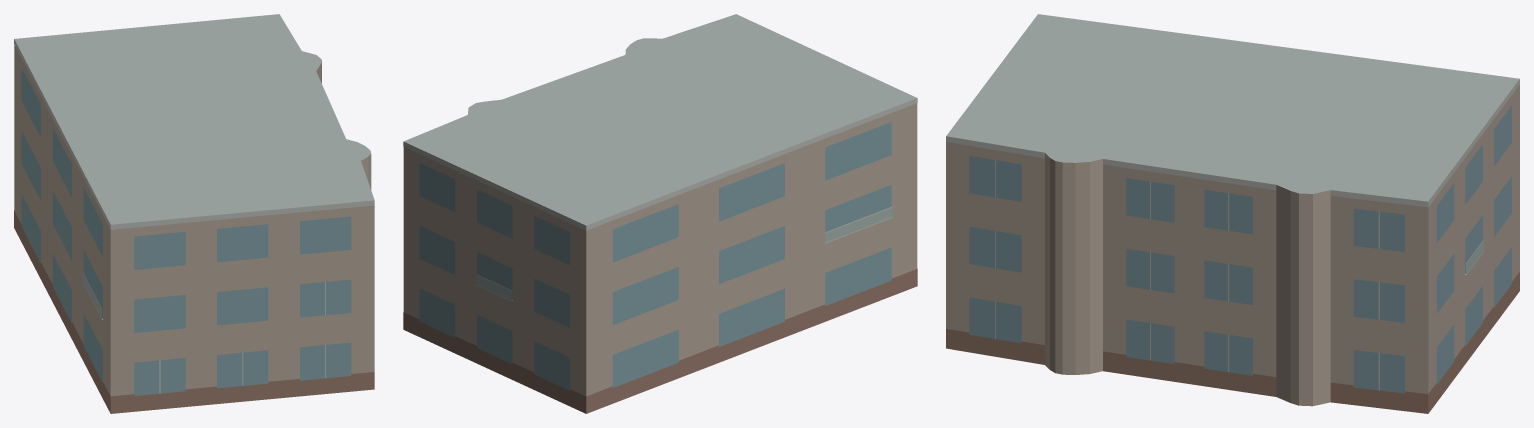
The model's file is survey-upis-32582106.glb.
3 renders of one model, left to right at view 1: azimuth 30°, elevation 25°; view 2: azimuth 150°, elevation 25°; view 3: azimuth 270°, elevation 25°, orthographic. The views are drawn at different scales.
Visible parts, largest first — view 1: survey-upis-32582106.tmp; view 2: survey-upis-32582106.tmp; view 3: survey-upis-32582106.tmp.
Boxes of the visible parts, x1,y1,x2,y2 form: survey-upis-32582106.tmp: (14,14,374,413); survey-upis-32582106.tmp: (403,14,917,413); survey-upis-32582106.tmp: (946,14,1519,413).
Size of the model in its own units: 17.36 by 9.15 by 22.43.
